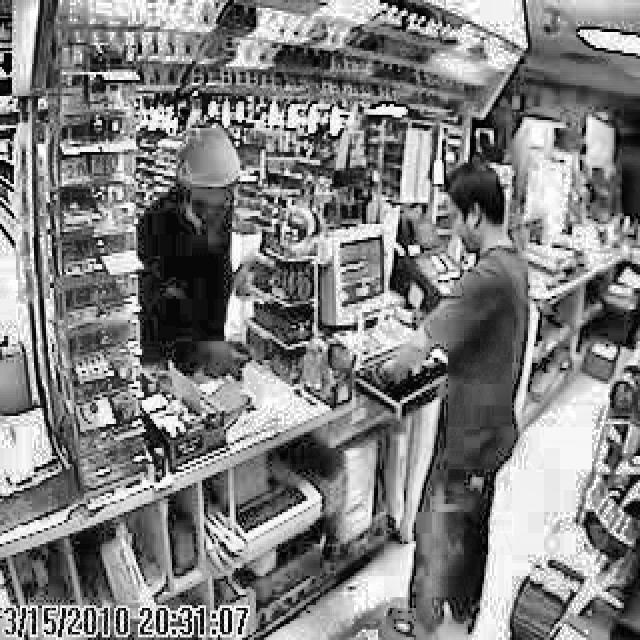robbery: (140, 122, 266, 394)
